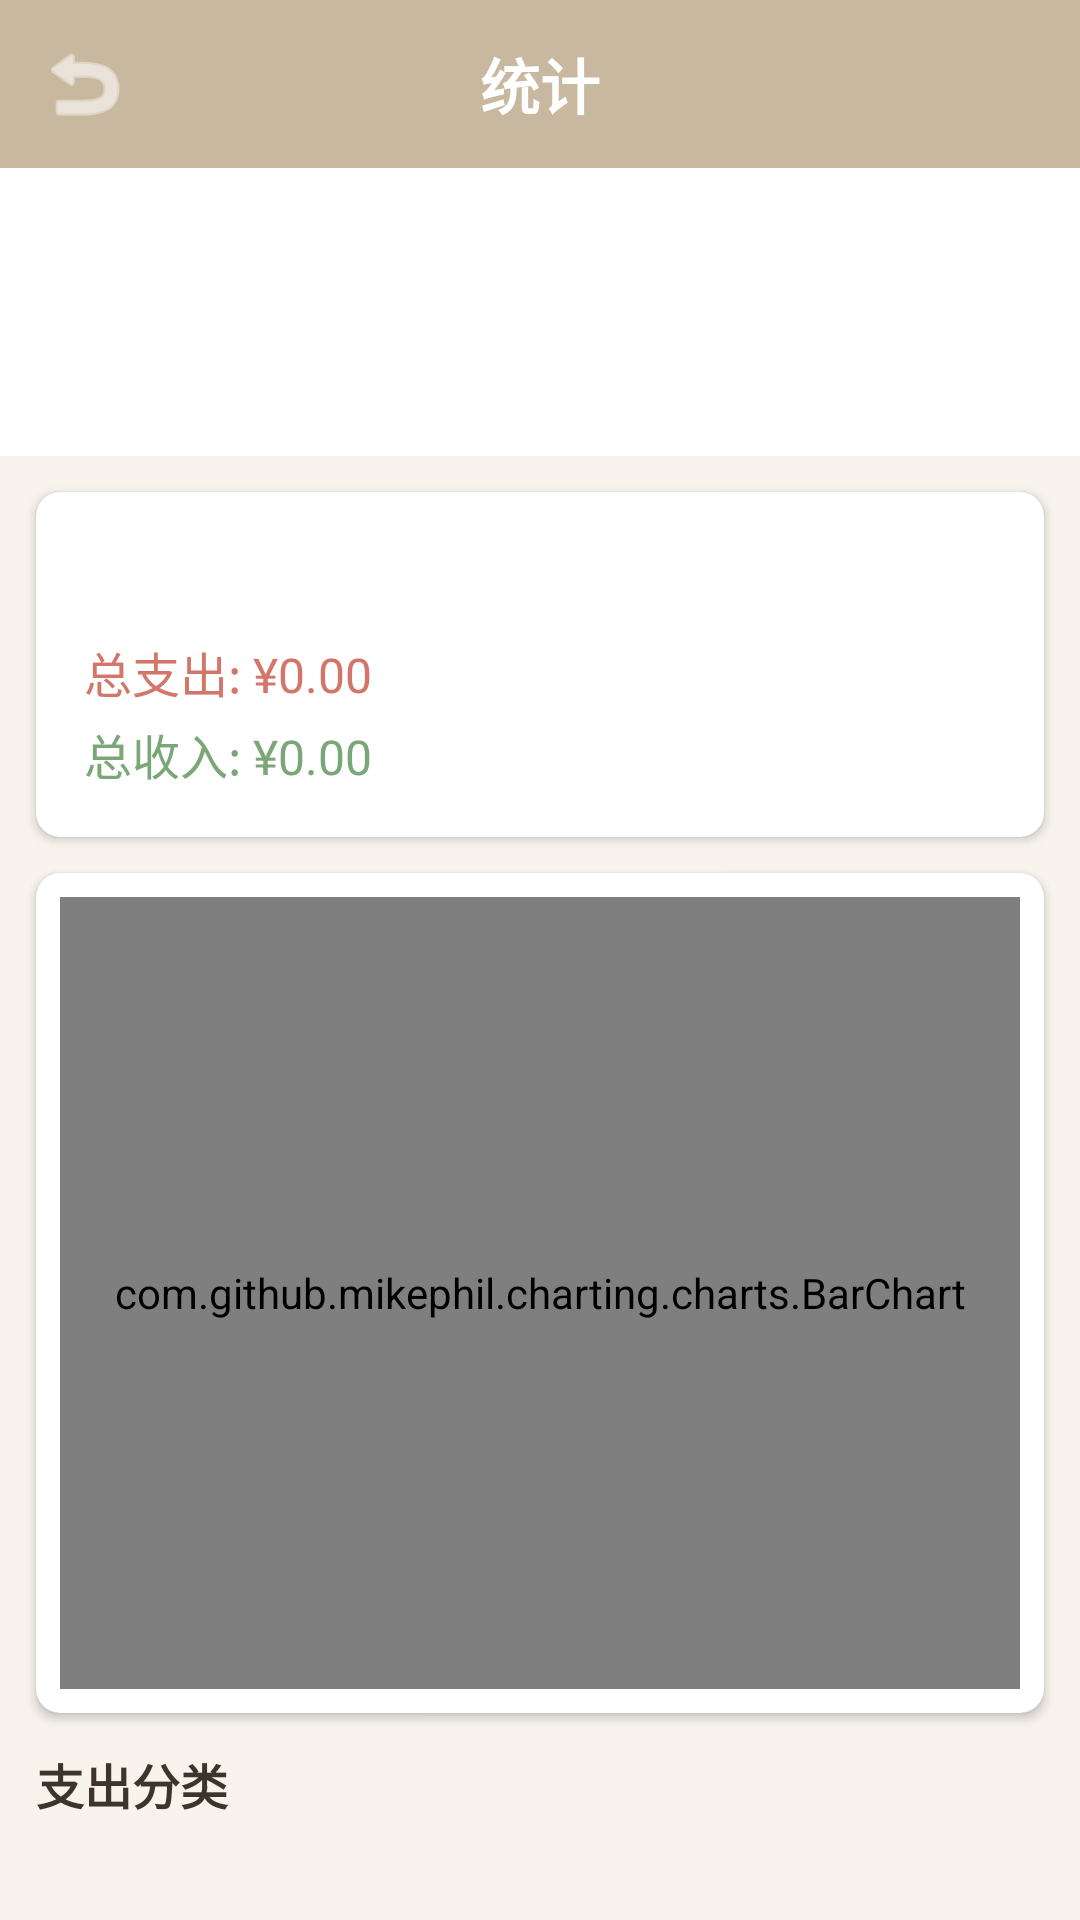

Point at icon controls on the screen. Image size 1080 x 1920, points as point (x, y).
revert: point (85, 85)
